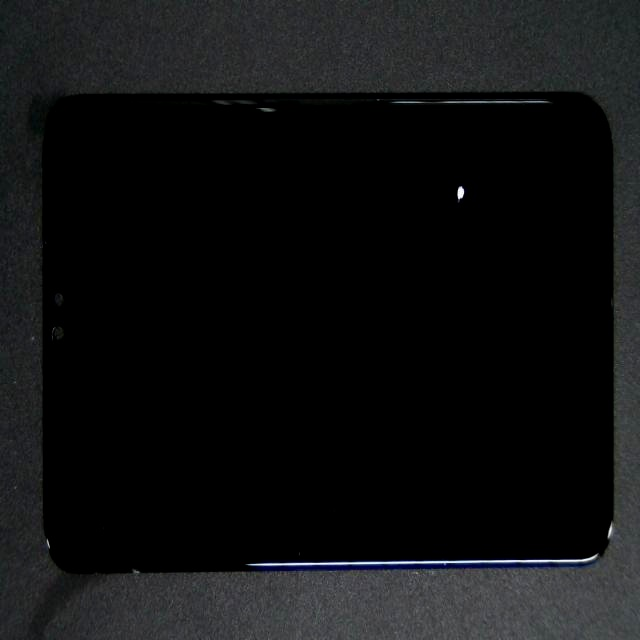stain: (234, 61, 640, 259)
